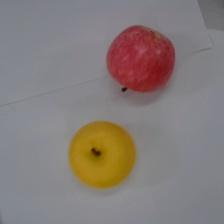red: (106, 25, 173, 93)
yellow: (68, 121, 136, 188)
